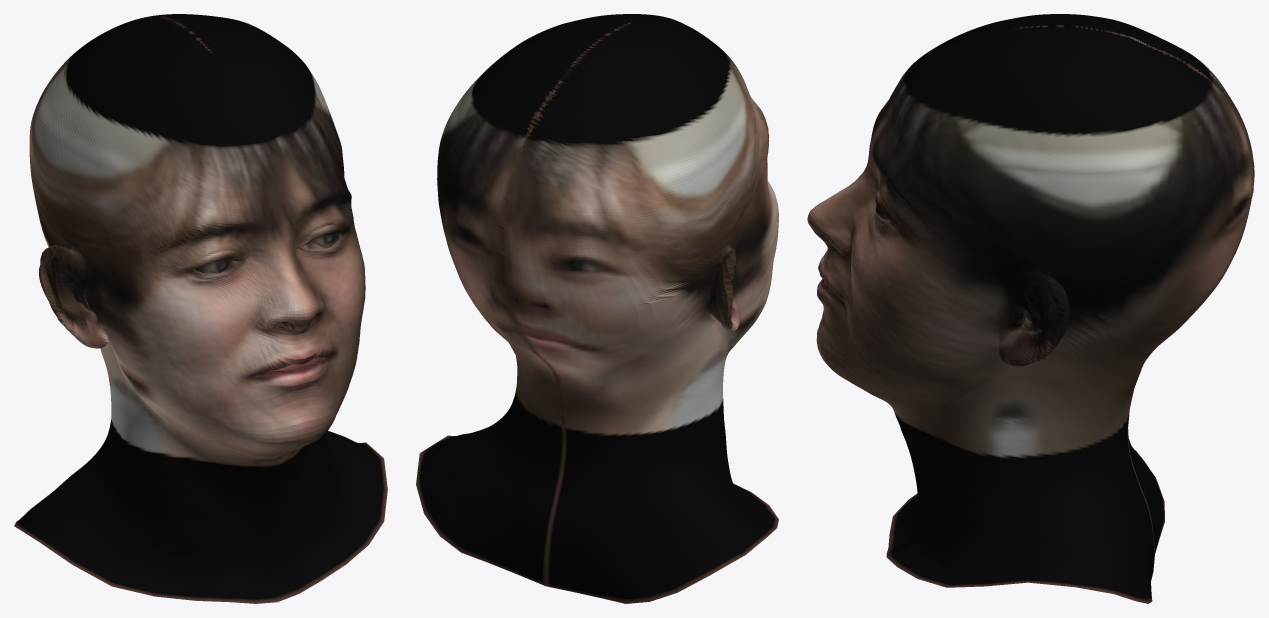
Rendered from mesh_coarse_detail.obj.
3 renders of one model, left to right at view 1: azimuth 30°, elevation 25°; view 2: azimuth 150°, elevation 25°; view 3: azimuth 270°, elevation 25°, orthographic. The views are drawn at different scales.
Size of the model in its own units: 0.2128 by 0.3142 by 0.2369.
